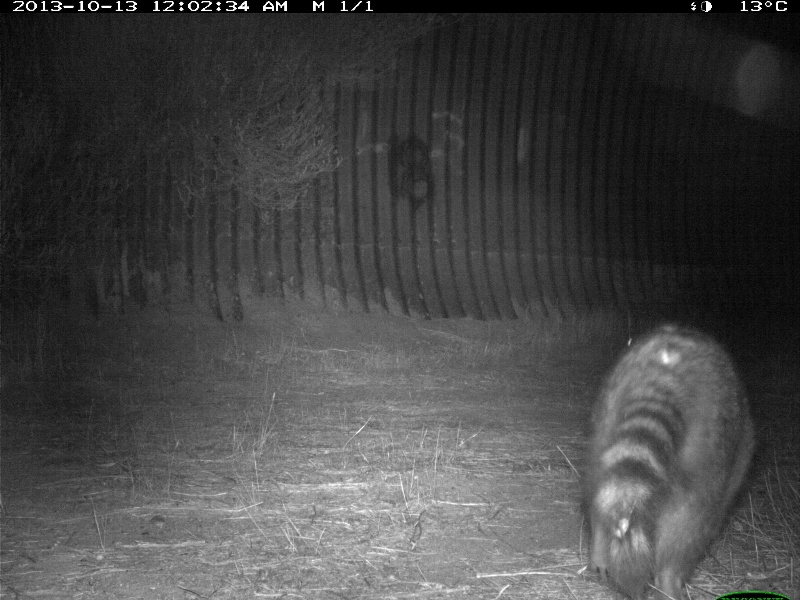raccoon: (581, 311, 759, 595)
